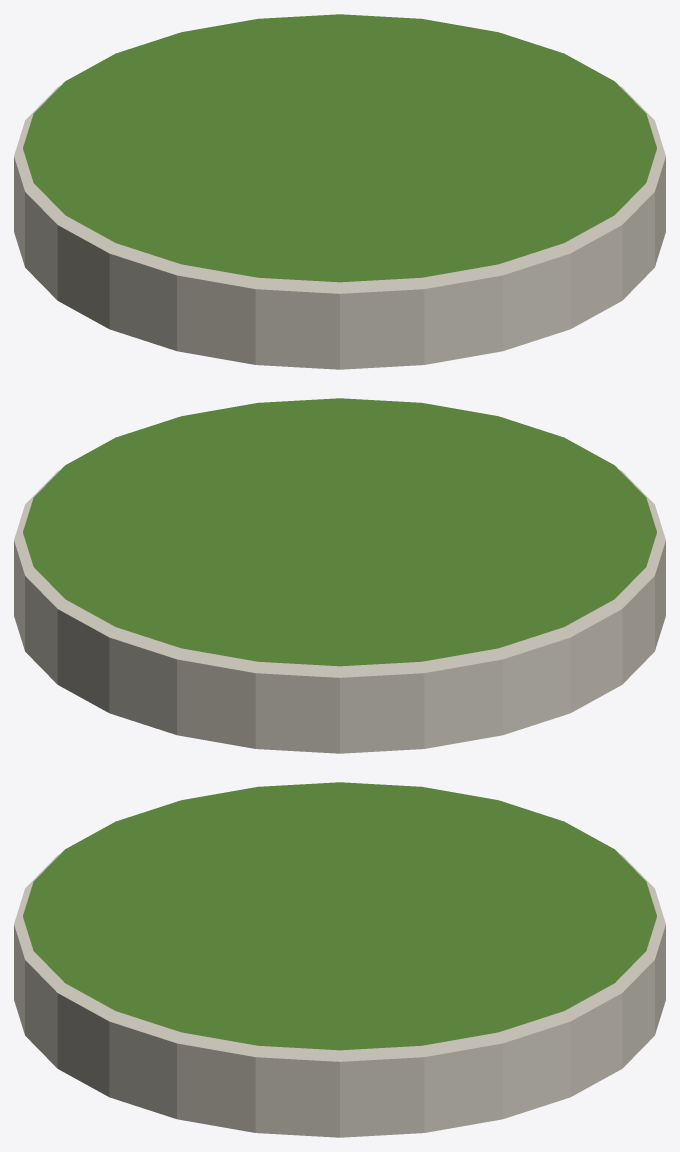
3 renders of one model, top to bottom at view 1: azimuth 30°, elevation 25°; view 2: azimuth 150°, elevation 25°; view 3: azimuth 270°, elevation 25°, orthographic.
Parts seen in each view (by area): view 1: rb_-9235_-1476_lod0; view 2: rb_-9235_-1476_lod0; view 3: rb_-9235_-1476_lod0.
Boxes of the visible parts, x1,y1,x2,y2 form: rb_-9235_-1476_lod0: (14,14,665,369); rb_-9235_-1476_lod0: (14,398,665,753); rb_-9235_-1476_lod0: (14,782,665,1137).
Size of what is drawn, in the model's own units: 14.8 by 2.1 by 14.8.
